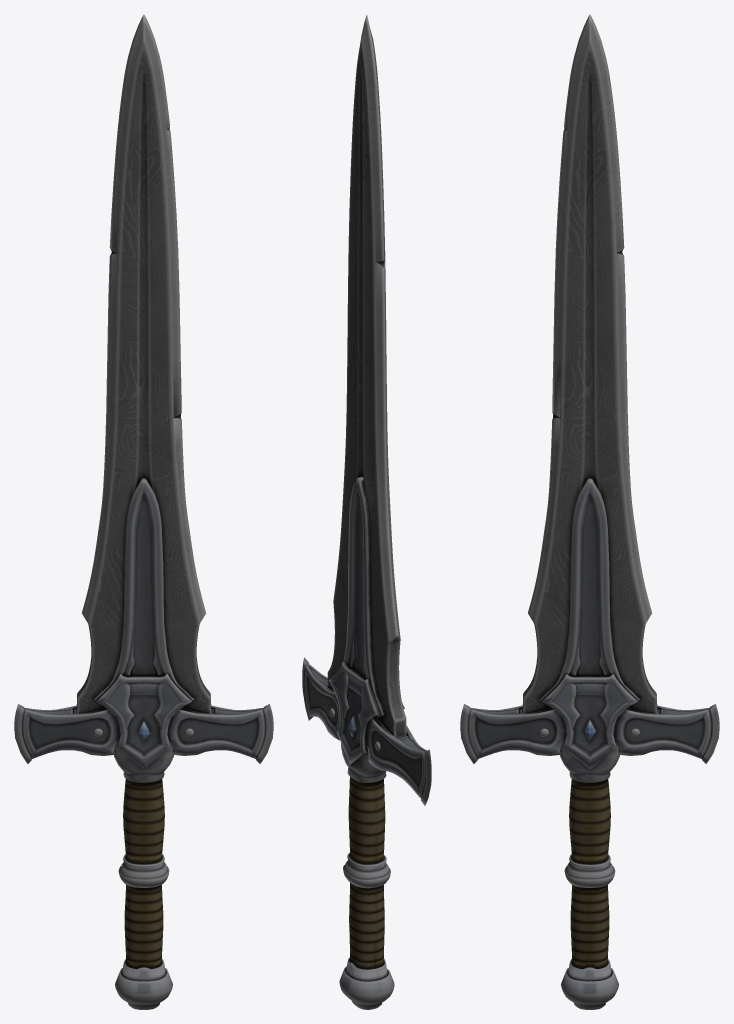
The model's file is sword.fbx.
3 views of the same model, side by side, from view 1: azimuth 90°, elevation 25°; view 2: azimuth 210°, elevation 25°; view 3: azimuth 270°, elevation 25° (orthographic).
Parts seen in each view (by area): view 1: greatsword; view 2: greatsword; view 3: greatsword.
Part boxes in pixels (x1=…): greatsword: x1=14, y1=14, x2=273, y2=1009; greatsword: x1=302, y1=14, x2=431, y2=1009; greatsword: x1=460, y1=14, x2=719, y2=1009.
Size of the model in its own units: 2.31 by 49.38 by 11.7.
